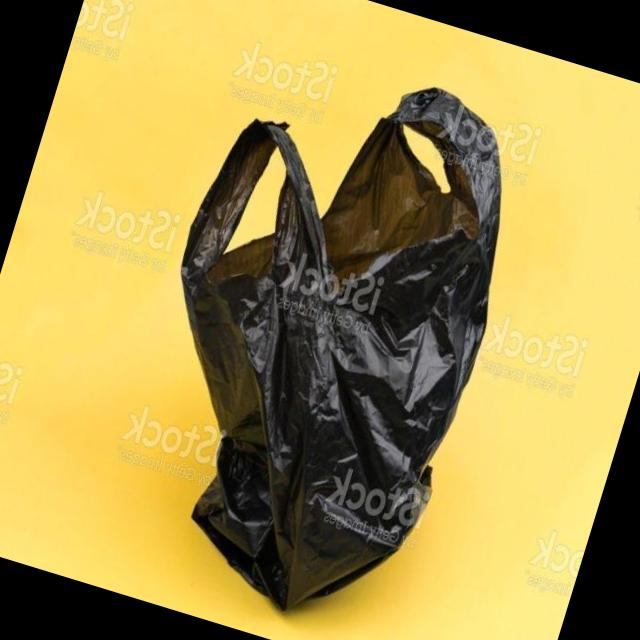KantongPlastik: (88, 27, 552, 640)
